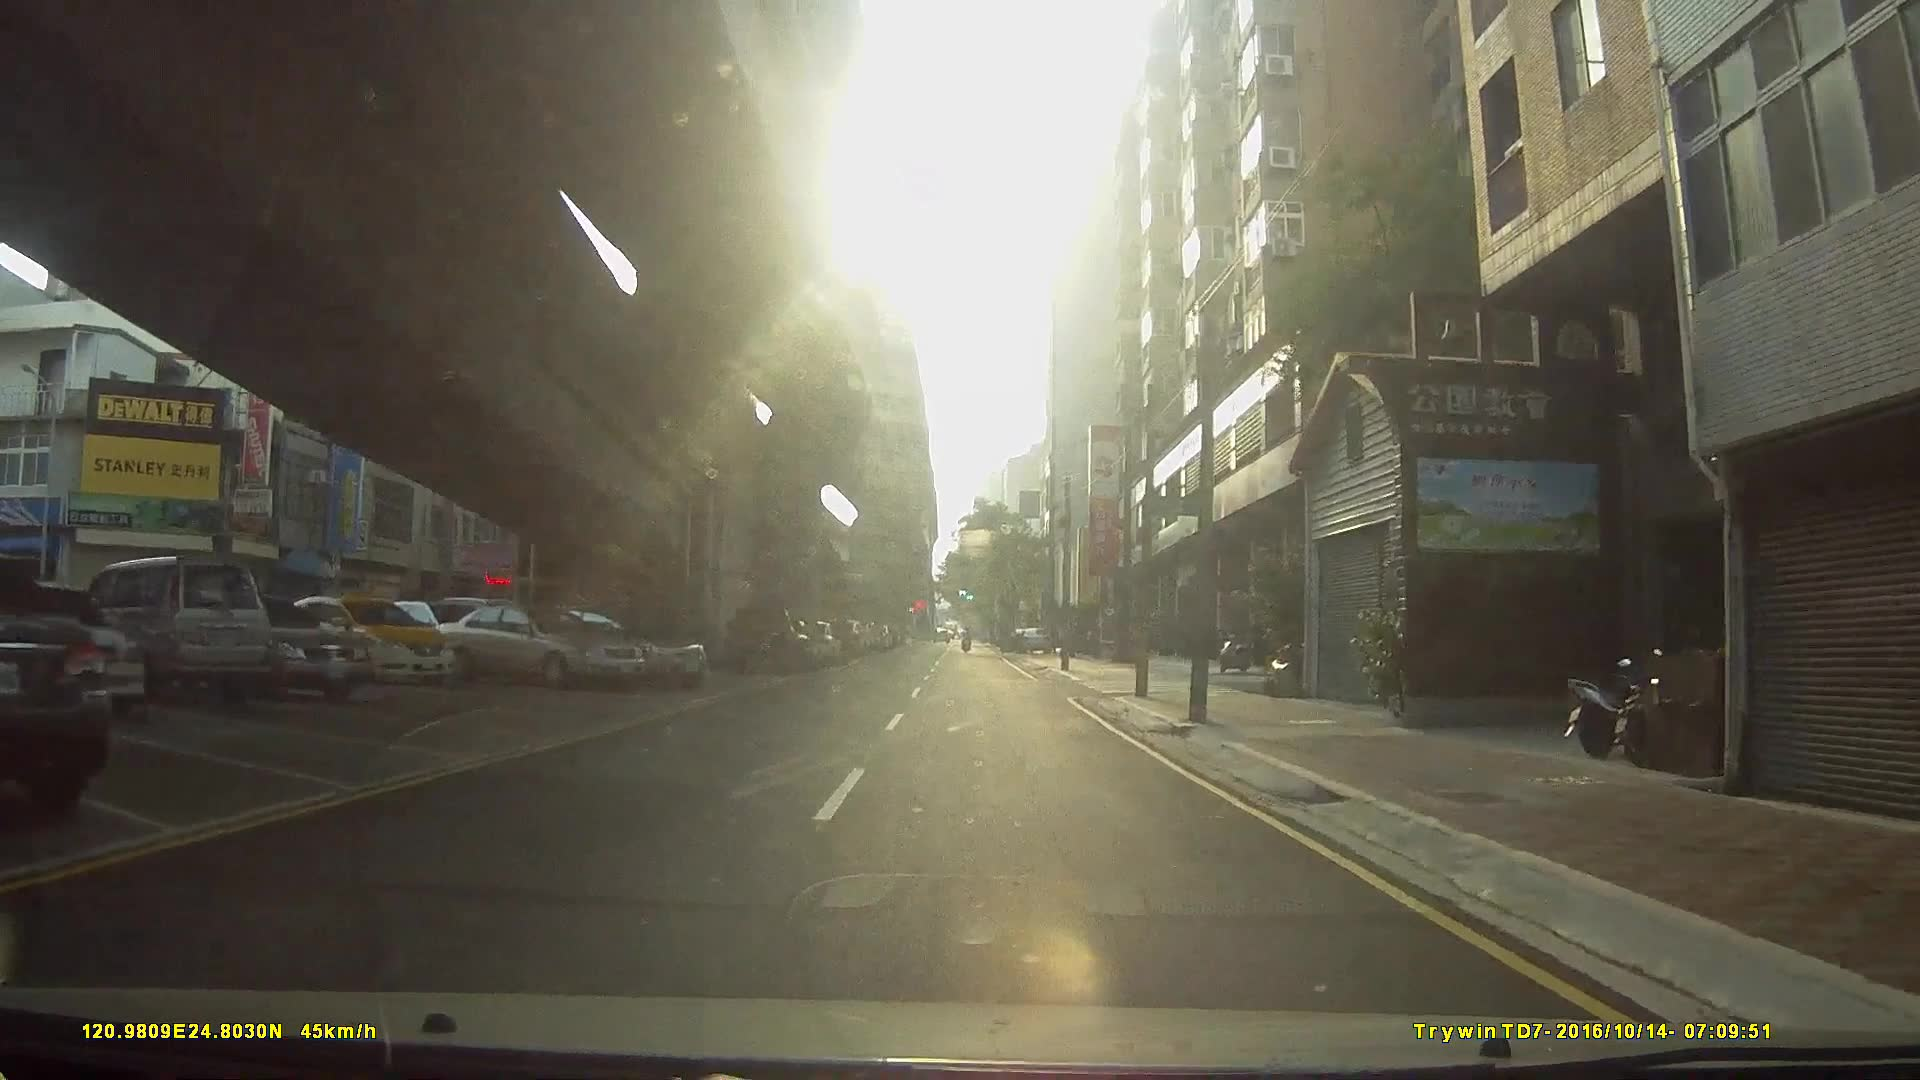vehicle: (65, 554, 272, 702), (0, 553, 112, 819), (160, 589, 375, 700), (0, 579, 146, 717), (422, 597, 640, 686), (498, 600, 707, 688), (284, 593, 454, 683), (721, 600, 806, 675)
